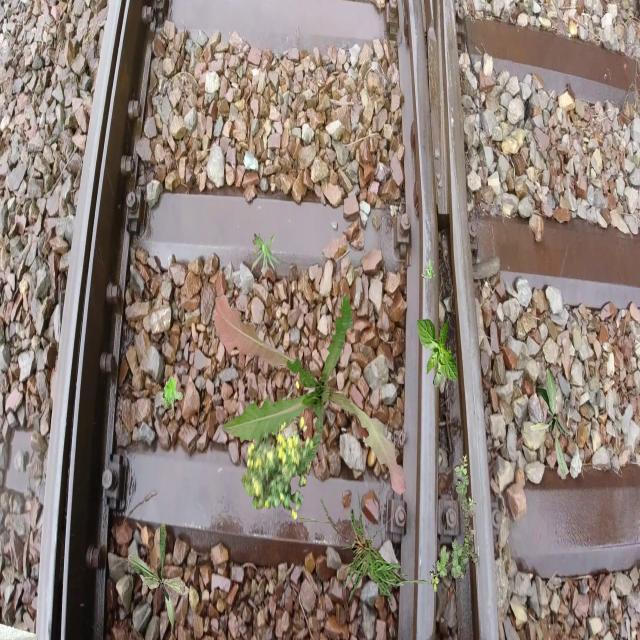Plant: (213, 293, 406, 496), (297, 487, 440, 606), (241, 381, 316, 521), (127, 521, 191, 633), (430, 454, 478, 592), (530, 367, 570, 477), (417, 317, 458, 388), (251, 233, 284, 279), (162, 377, 182, 410), (422, 258, 436, 278)
